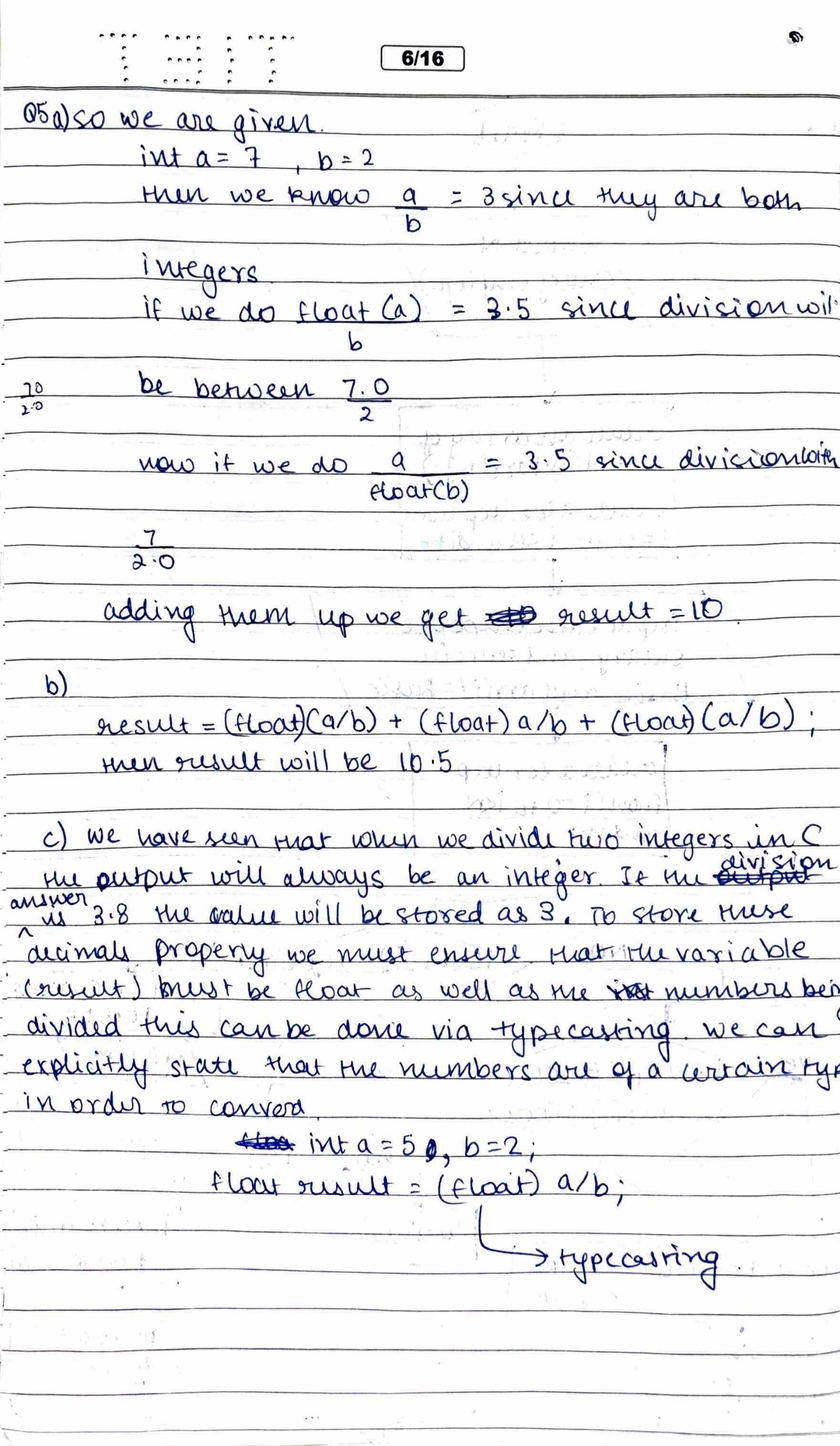cuttings: (713, 867, 824, 891), (484, 604, 542, 627), (233, 1130, 295, 1151), (604, 980, 653, 1003), (425, 1138, 439, 1161)
